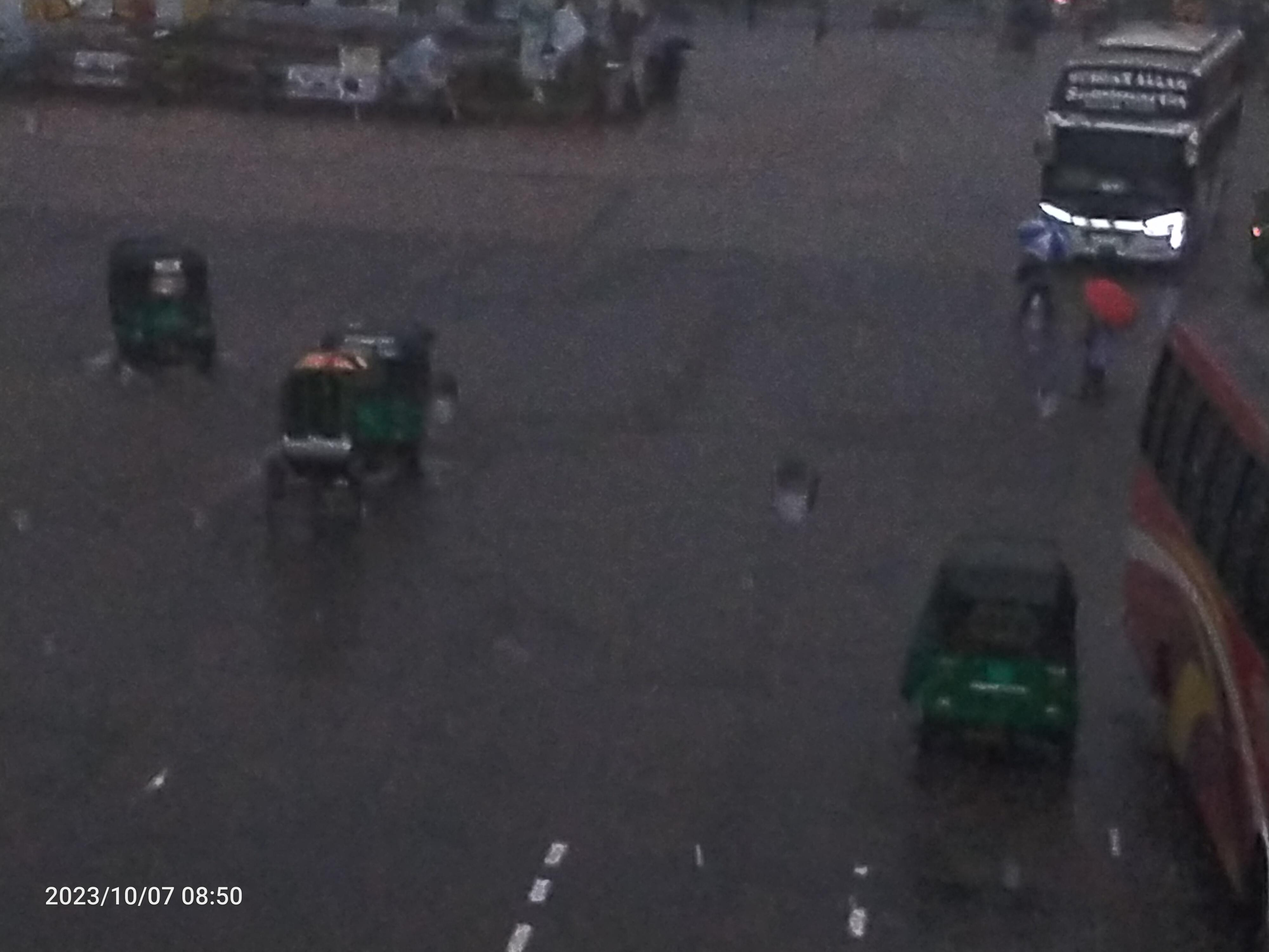Bus: (1094, 257, 1269, 944), (974, 12, 1269, 314)
Car: (237, 309, 390, 551)
